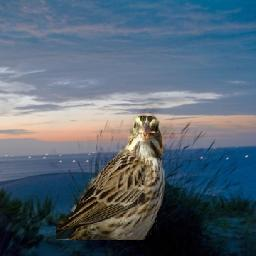Sparrow: (57, 114, 166, 241)
